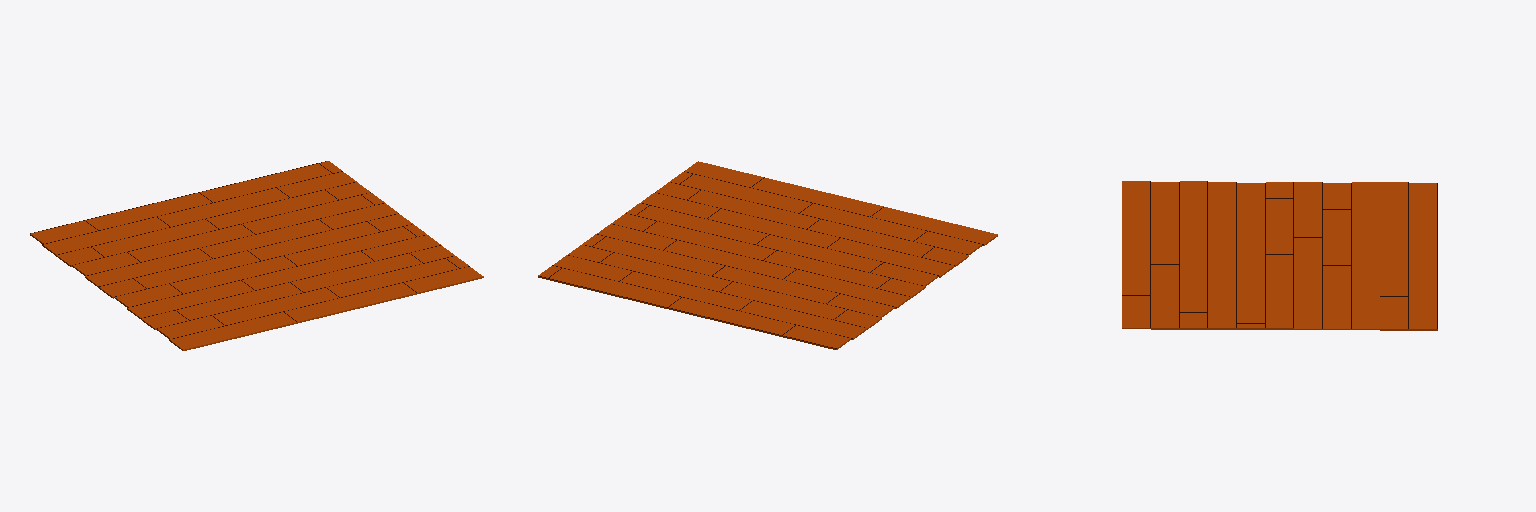
The model's file is one_mesh.obj.
3 views of the same model, side by side, from view 1: azimuth 30°, elevation 25°; view 2: azimuth 150°, elevation 25°; view 3: azimuth 270°, elevation 25° (orthographic).
Visible parts, largest first — view 1: group[number redacted]; view 2: group[number redacted]; view 3: group[number redacted].
Part boxes in pixels (x1,y1,x2,y2): group[number redacted]: (30, 161, 483, 350); group[number redacted]: (538, 161, 997, 349); group[number redacted]: (1122, 181, 1437, 330).
Bounding box in the file's own units: 4.03 × 0.02 × 3.63.